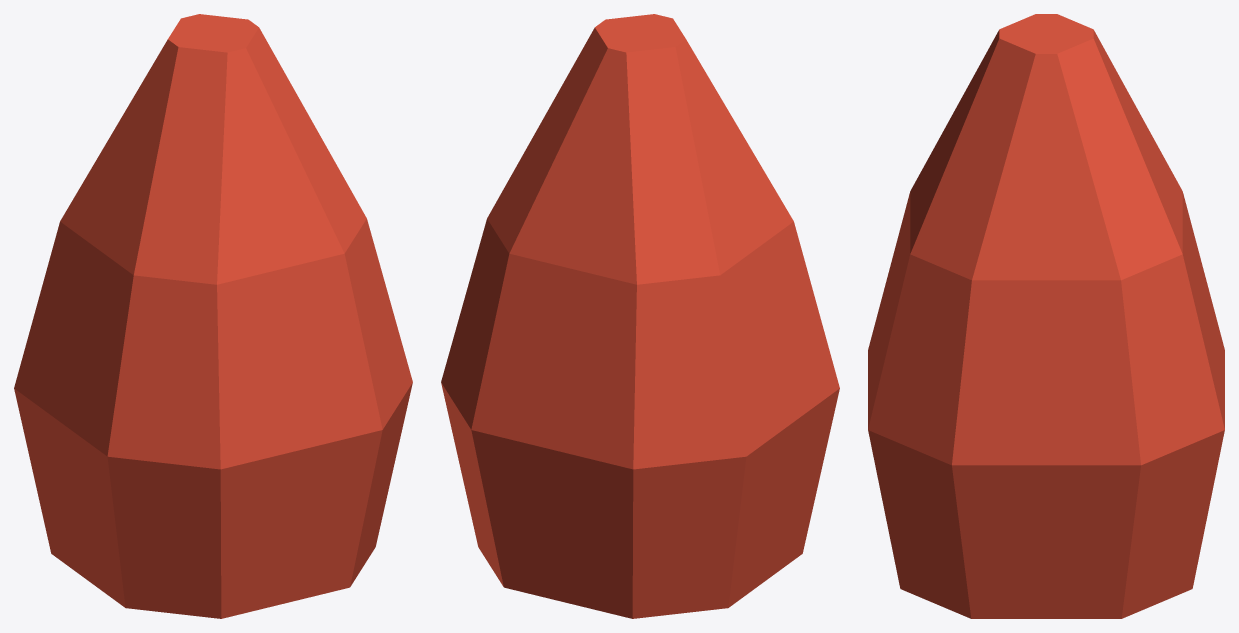
Rendered from Rocks.glb.
3 views of the same model, side by side, from view 1: azimuth 30°, elevation 25°; view 2: azimuth 150°, elevation 25°; view 3: azimuth 270°, elevation 25° (orthographic).
Parts seen in each view (by area): view 1: Cube; view 2: Cube; view 3: Cube.
Part boxes in pixels (x1,y1,x2,y2): Cube: (14, 14, 412, 618); Cube: (441, 14, 839, 618); Cube: (868, 14, 1224, 618).
Bounding box in the file's own units: 2.44 × 3.95 × 2.44.
